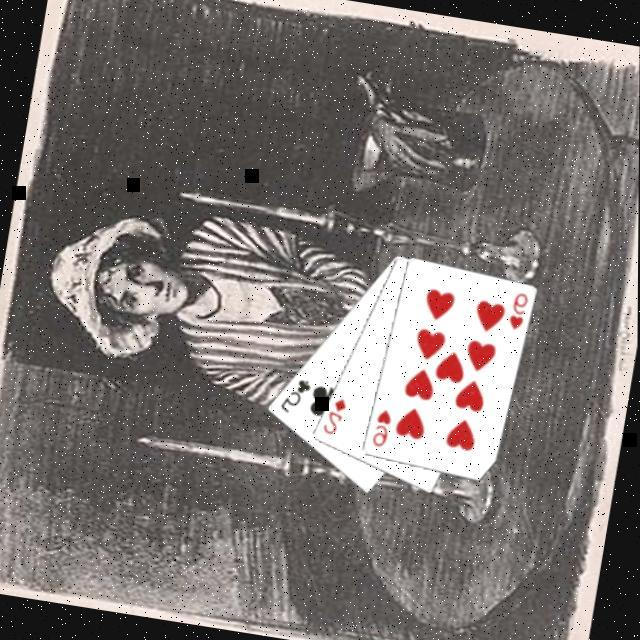2D: (318, 392, 349, 438)
5C: (274, 372, 313, 418)
9H: (366, 404, 393, 451), (504, 288, 530, 334)
